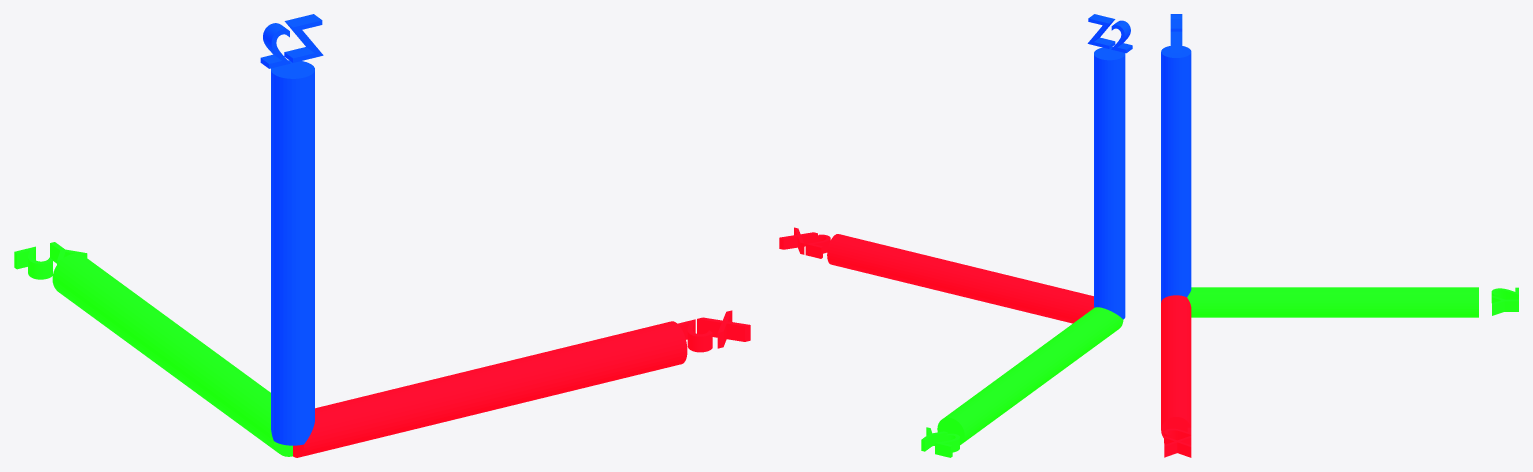
The model's file is axis_frame_2.dae.
3 renders of one model, left to right at view 1: azimuth 30°, elevation 25°; view 2: azimuth 150°, elevation 25°; view 3: azimuth 270°, elevation 25°, orthographic. The views are drawn at different scales.
Parts seen in each view (by area): view 1: Text; view 2: Text; view 3: Text.
Boxes of the visible parts, box(x1,y1,x2,y2) form: Text: box(14, 14, 750, 457); Text: box(779, 14, 1132, 457); Text: box(1161, 14, 1518, 457).
Size of the model in its own units: 0.9362 by 0.8861 by 0.8102.
